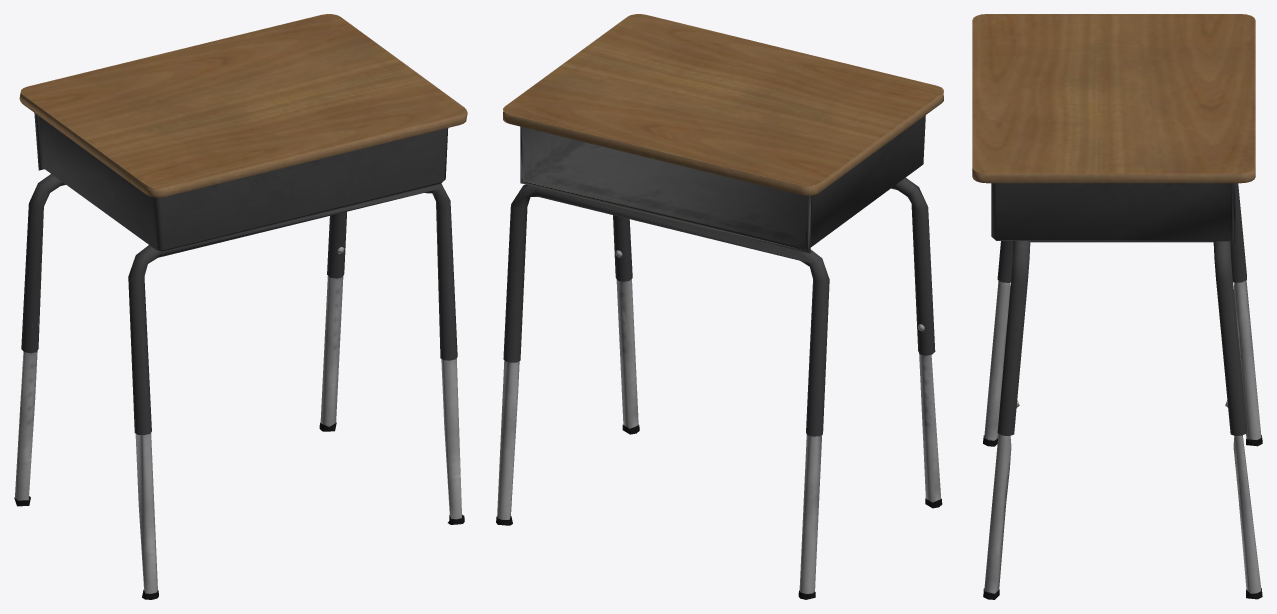
Rendered from SchoolDesk_01.glb.
3 views of the same model, side by side, from view 1: azimuth 30°, elevation 25°; view 2: azimuth 150°, elevation 25°; view 3: azimuth 270°, elevation 25° (orthographic). The views are drawn at different scales.
Visible parts, largest first — view 1: SchoolDesk_01; view 2: SchoolDesk_01; view 3: SchoolDesk_01.
Part boxes in pixels (x1,y1,x2,y2): SchoolDesk_01: [14, 14, 467, 599]; SchoolDesk_01: [496, 14, 943, 599]; SchoolDesk_01: [972, 14, 1262, 599].
Size of the model in its own units: 0.7101 by 0.8826 by 0.5438.
Materials: 1 (1 with a texture image).
